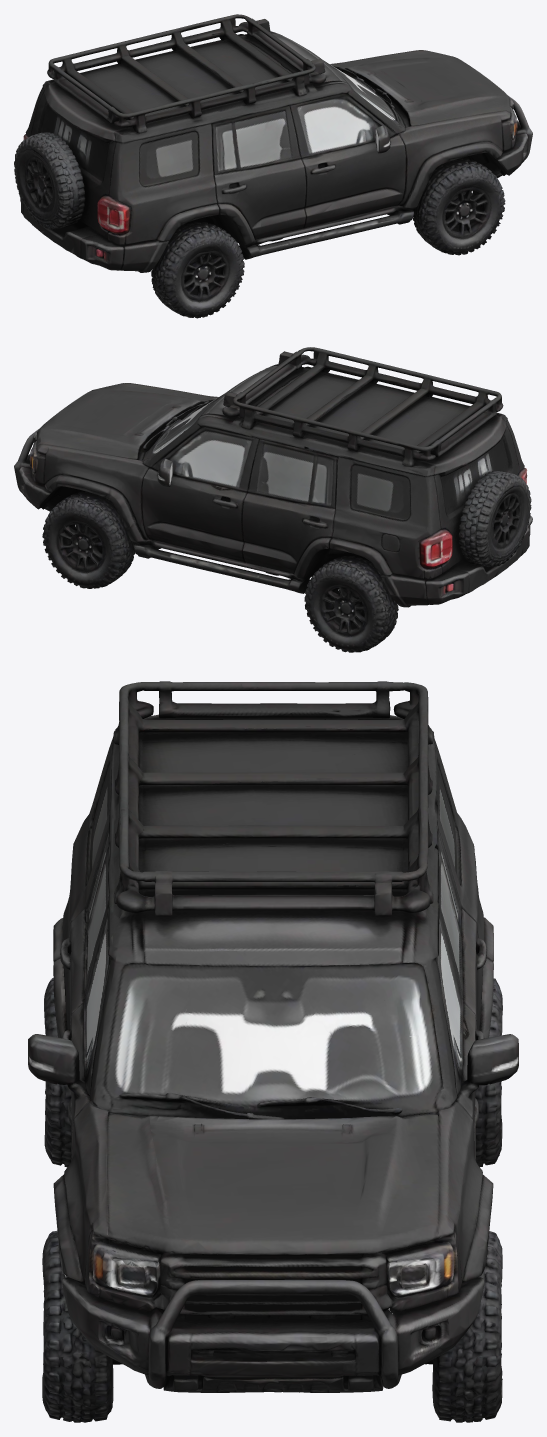
File: rb_ridgeback.glb
3 views of the same model, one above another, from view 1: azimuth 30°, elevation 25°; view 2: azimuth 150°, elevation 25°; view 3: azimuth 270°, elevation 25° (orthographic). The views are drawn at different scales.
Parts seen in each view (by area): view 1: body, wheel_RR_part, wheel_FR_part; view 2: body, wheel_RL_part, wheel_FL_part; view 3: body, wheel_FR_part, wheel_FL_part, wheel_RL_part, wheel_RR_part.
Part boxes in pixels (box(x1,y1,x2,y2)): body: box(14, 14, 532, 272); wheel_RR_part: box(151, 222, 244, 318); wheel_FR_part: box(413, 158, 505, 255); body: box(14, 347, 532, 607); wheel_RL_part: box(304, 553, 398, 652); wheel_FL_part: box(42, 491, 135, 588); body: box(28, 681, 518, 1392); wheel_FR_part: box(42, 1231, 119, 1422); wheel_FL_part: box(426, 1231, 502, 1422); wheel_RL_part: box(475, 978, 502, 1166); wheel_RR_part: box(44, 978, 71, 1167).
Bounding box in the file's own units: 1.9 × 0.8054 × 0.8665.
5 materials, 5 textured.
